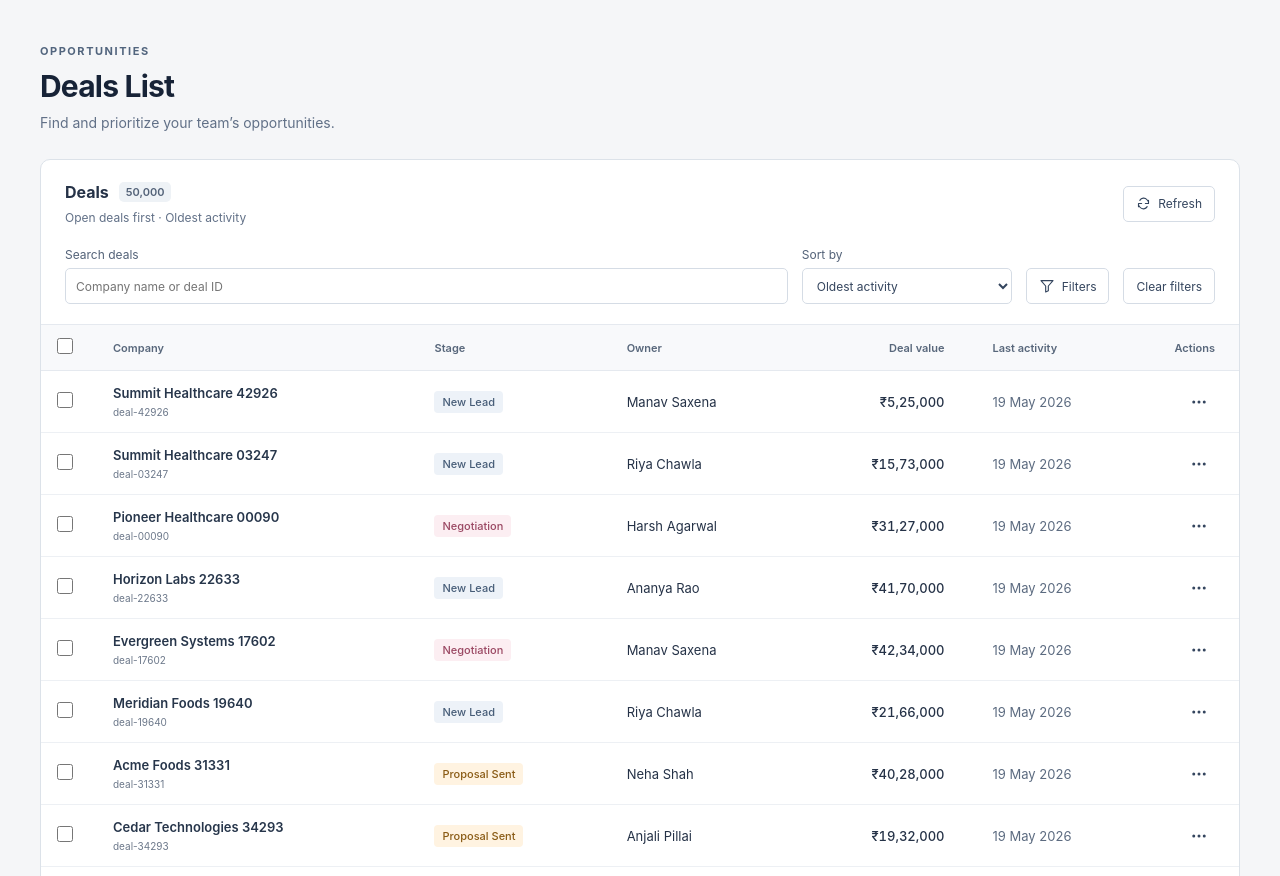
Test case: manual bulk selection across pages › retains retryable outcomes if the whole request rejects
This screenshot has width=1280, height=876.
Click the 1st checkbox with class "row-select": (65, 400) [57,392,73,408]
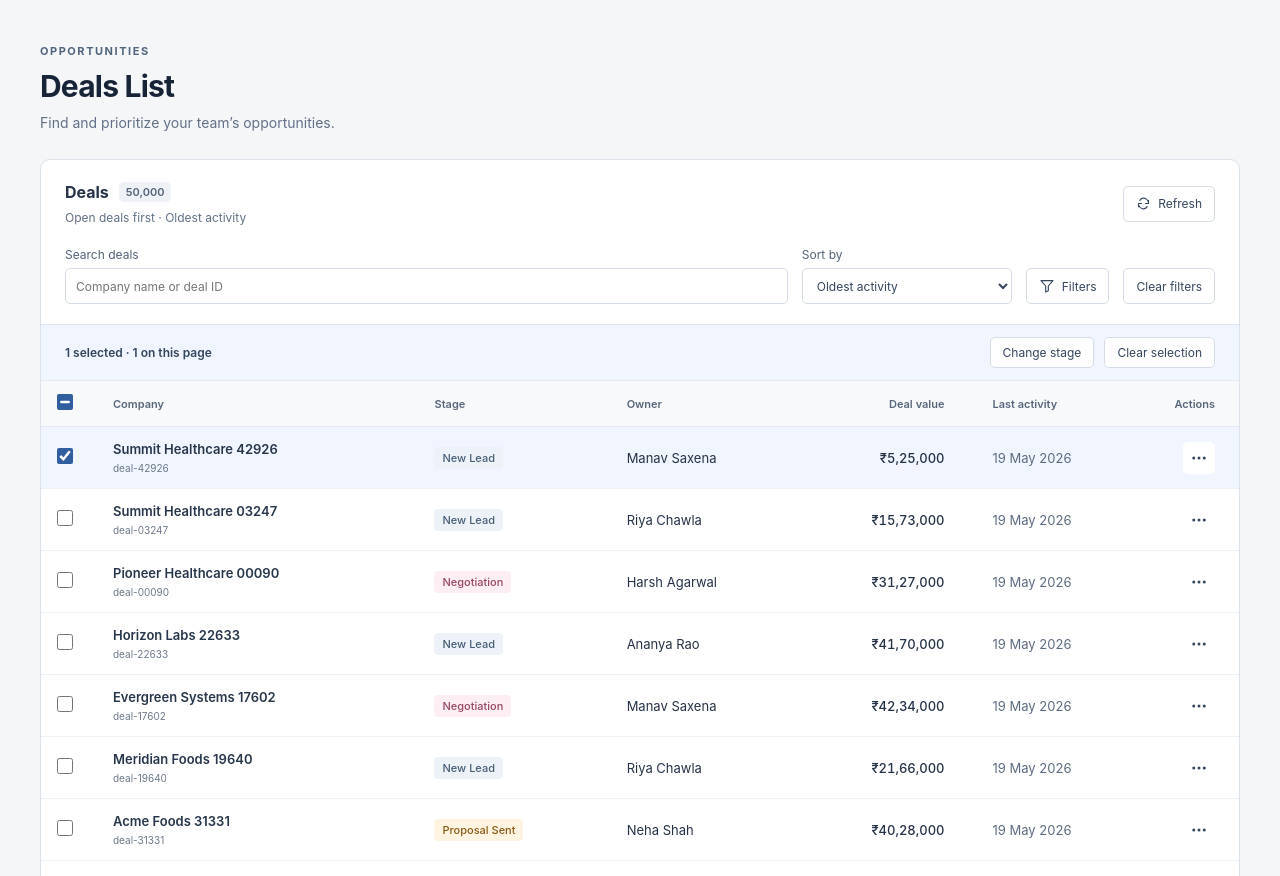
Click the button with class "bulk-change-stage": (1042, 352) [990,337,1094,368]
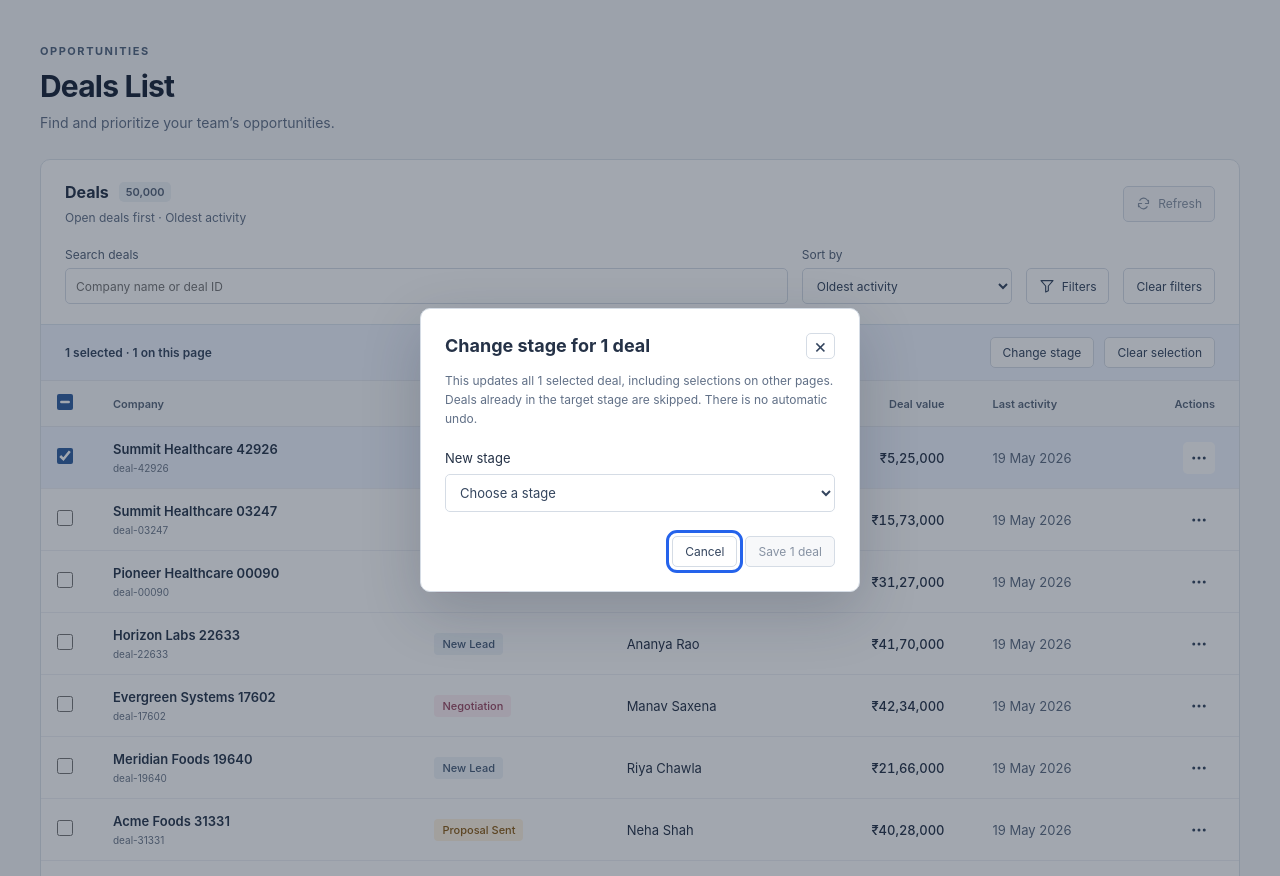
Expected: the dropdown labelled "New stage" shows "Choose a stage"
Expected: the button "Save 1 deal" is disabled, [746,536,835,567]
Select "Lost" in the dropdown labelled "New stage": (640, 493) [445,474,835,512]
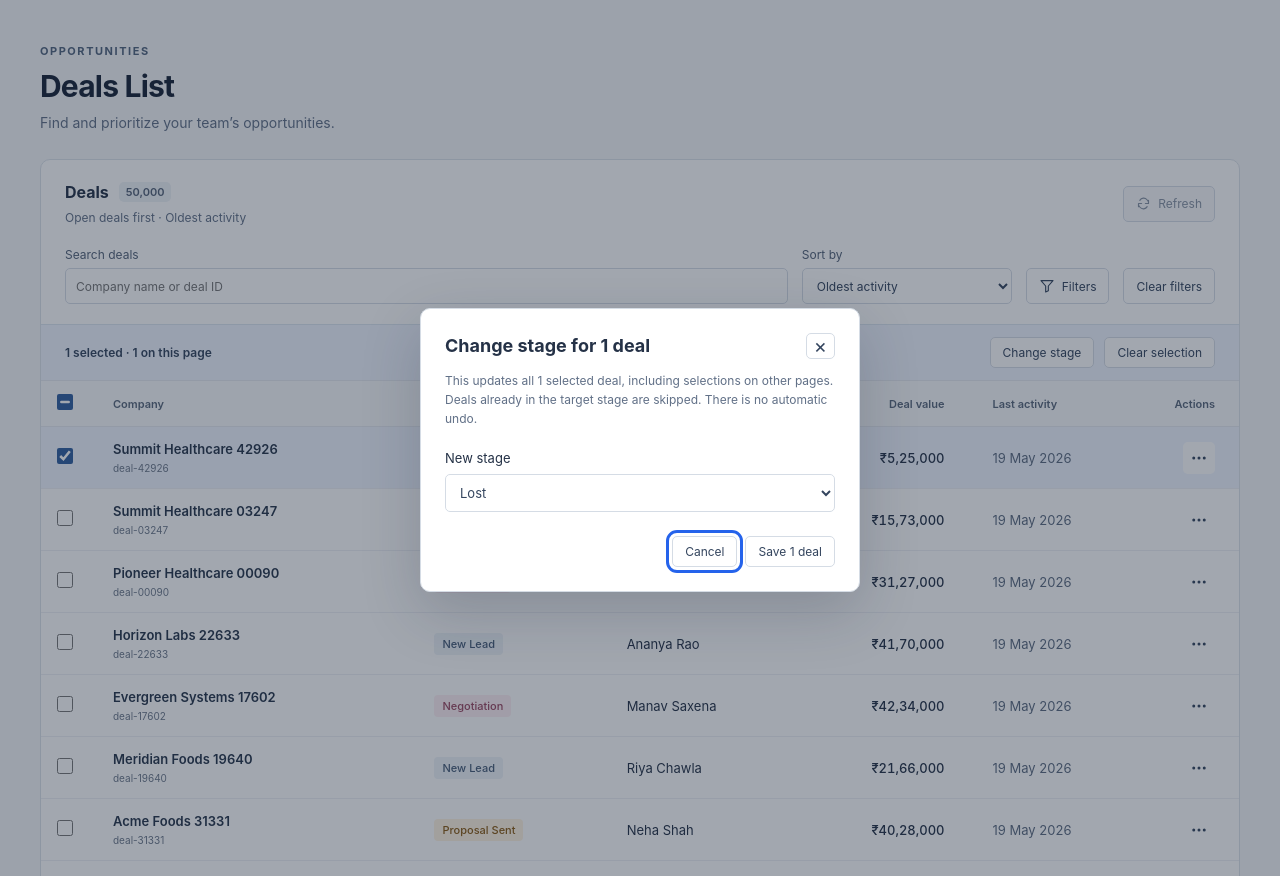
Click the button "Save 1 deal": (790, 552) [746,536,835,567]
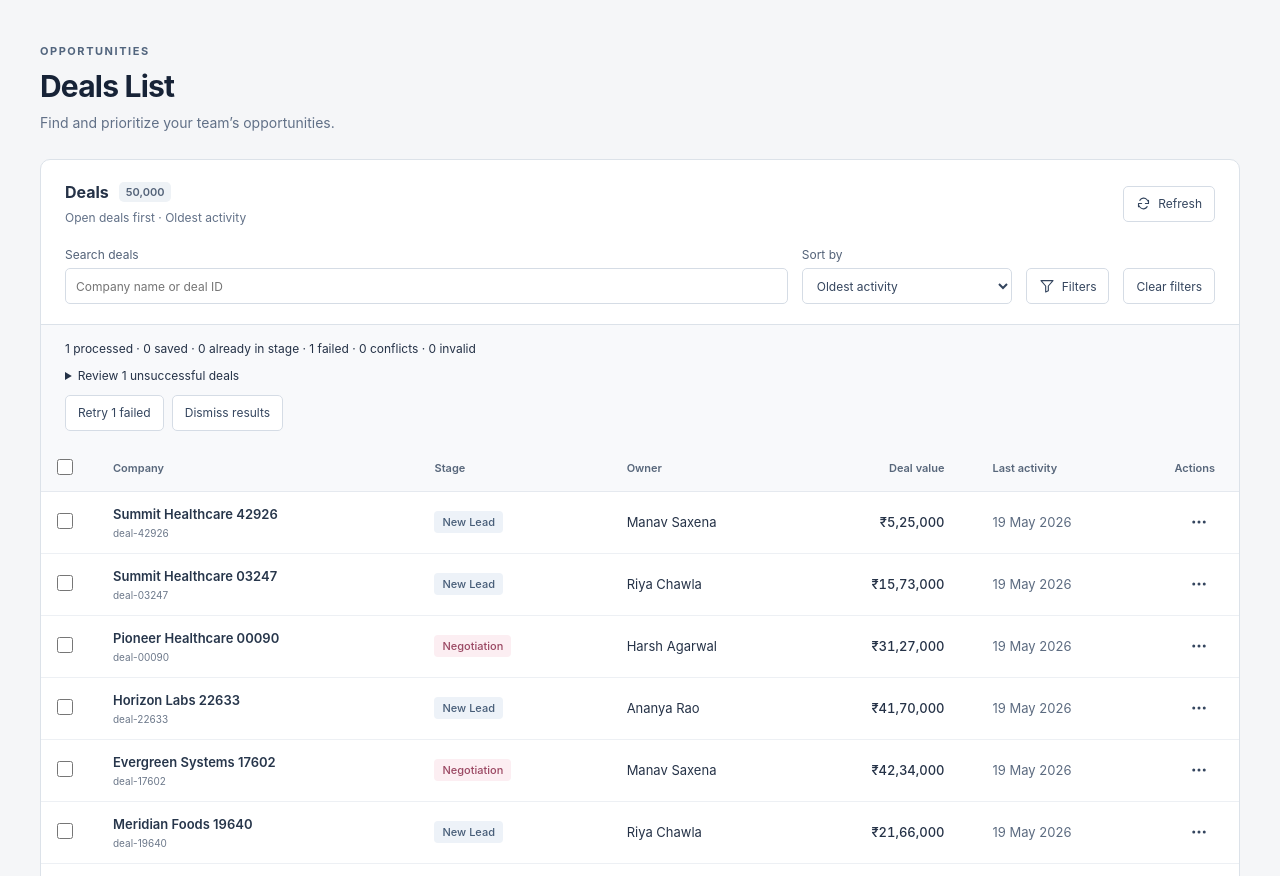
Expected: the dialog is gone
Expected: the element with class "bulk-summary" shows "1 failed", [65,341,476,356]
Click the button "Retry 1 failed": (114, 413) [65,395,164,431]
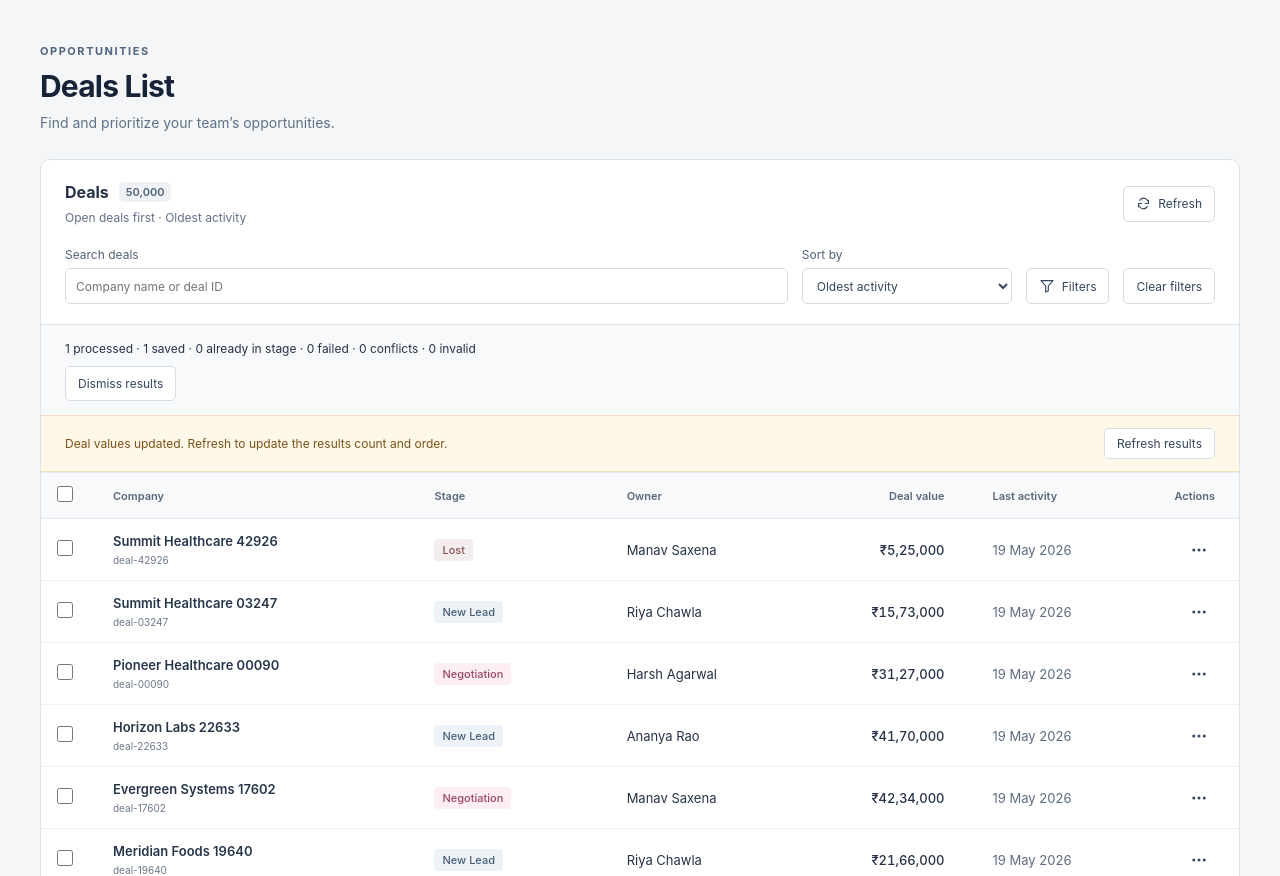
Expected: the element with class "bulk-summary" shows "1 saved", [65,341,476,356]
